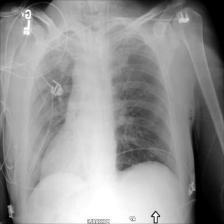normal: (15, 19, 182, 192)
